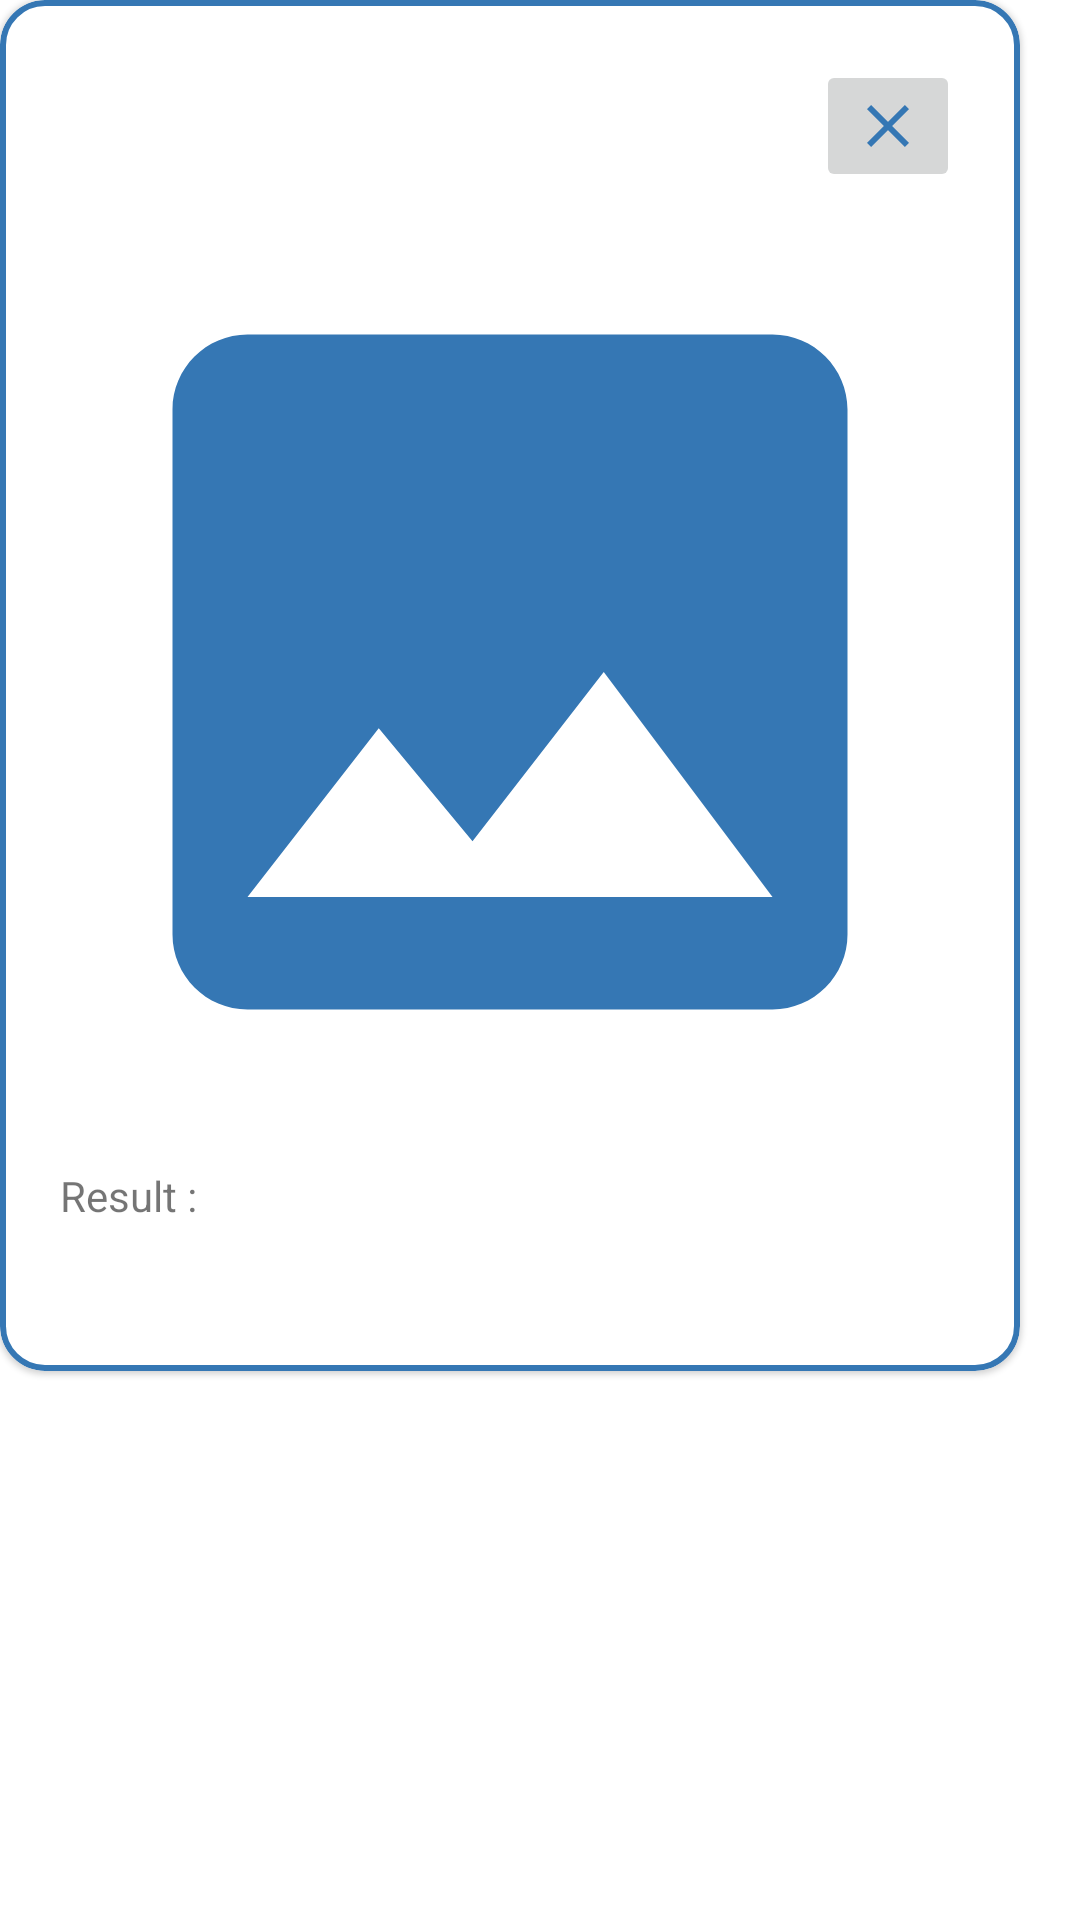

Where icons sit on this 1080px×1920px app screen, as rect(x1, y1, x2, y2):
Close pop up: rect(828, 78, 948, 174)
